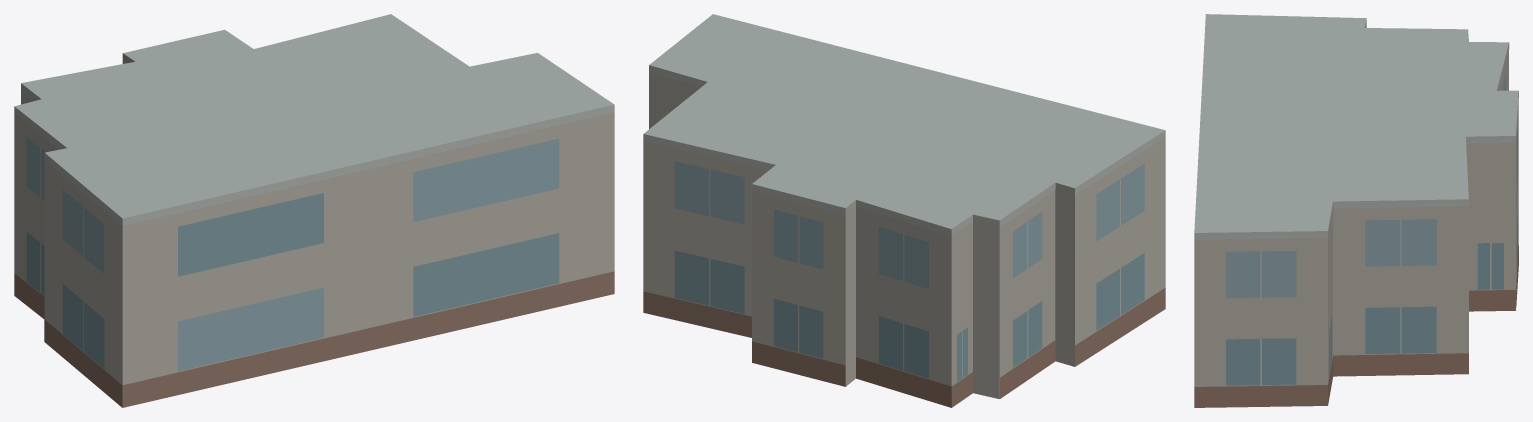
Rendered from survey-upis-32874287.glb.
3 views of the same model, side by side, from view 1: azimuth 30°, elevation 25°; view 2: azimuth 150°, elevation 25°; view 3: azimuth 270°, elevation 25° (orthographic). The views are drawn at different scales.
Parts seen in each view (by area): view 1: survey-upis-32874287.tmp; view 2: survey-upis-32874287.tmp; view 3: survey-upis-32874287.tmp.
Boxes of the visible parts, bbox=[...] form: survey-upis-32874287.tmp: bbox=[14, 14, 614, 407]; survey-upis-32874287.tmp: bbox=[643, 14, 1165, 407]; survey-upis-32874287.tmp: bbox=[1194, 14, 1518, 407].
Size of the model in its own units: 16.39 by 6.1 by 10.27.
